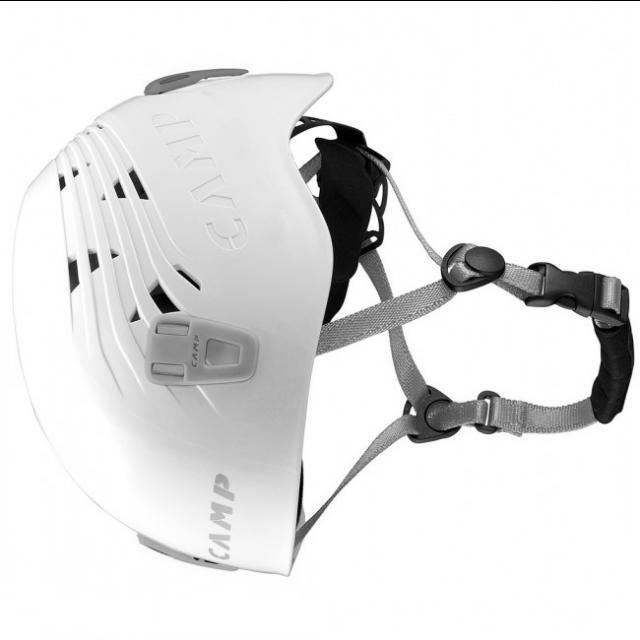safety_helmet: (12, 64, 387, 577)
